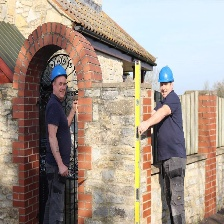helmet: (49, 64, 69, 85), (157, 66, 175, 89)
no-vest: (152, 93, 187, 169), (45, 94, 73, 177)
person: (151, 65, 188, 224), (44, 63, 73, 224)
